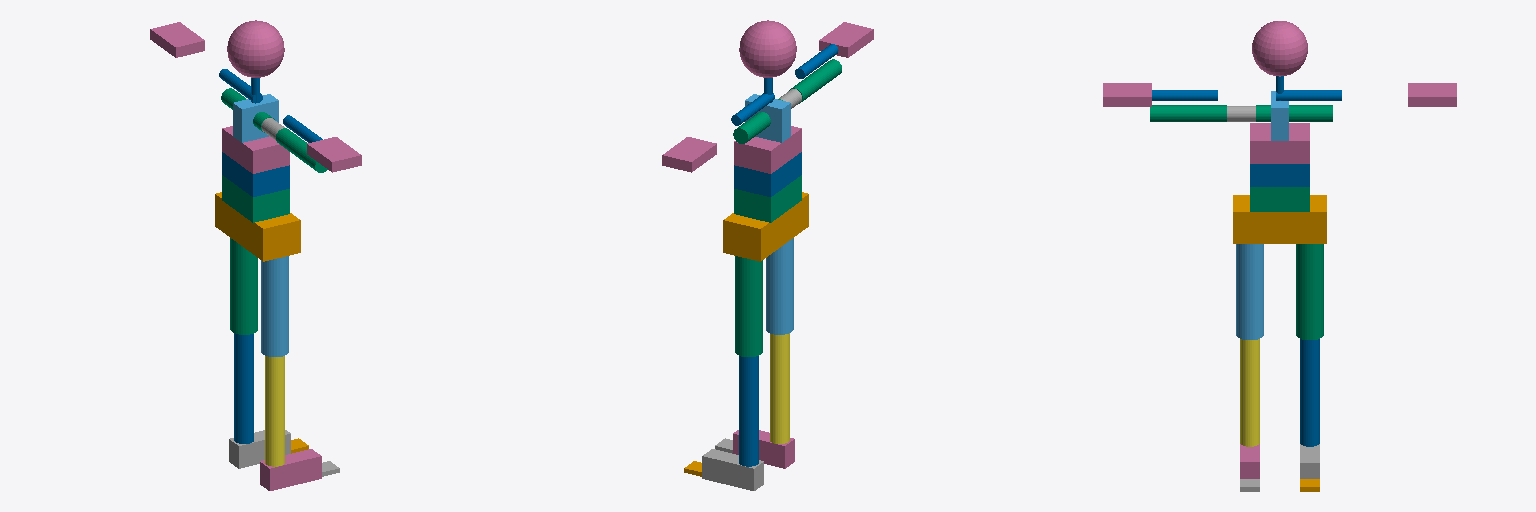
--- What the picture shows (computed from the rendered views, not written in the file) ---
Views: 3 orthographic renders of the robot side by side, from view 1: azimuth 30°, elevation 25°; view 2: azimuth 150°, elevation 25°; view 3: azimuth 270°, elevation 25°.
Model XSensStyleModel_template with 49 links and 48 joints (48 revolute), rooted at Pelvis, posed every joint at zero.
Links seen in each view (by area): view 1: Pelvis, RightUpperLeg, Head, LeftUpperLeg, RightLowerLeg, LeftLowerLeg, T12, RightFoot, L5, L3, T8, LeftHand (+3 smaller); view 2: Pelvis, LeftUpperLeg, Head, RightUpperLeg, LeftLowerLeg, RightLowerLeg, T12, LeftFoot, L5, L3, LeftHand, RightHand (+6 smaller); view 3: Pelvis, RightUpperLeg, LeftUpperLeg, Head, T12, RightLowerLeg, LeftLowerLeg, L5, L3, RightUpperArm, RightHand, LeftHand (+6 smaller).
Link boxes in pixels (<box>): Pelvis: <box>215,192,300,261</box>; RightUpperLeg: <box>261,256,288,356</box>; Head: <box>227,20,284,77</box>; LeftUpperLeg: <box>230,238,257,334</box>; RightLowerLeg: <box>265,356,284,466</box>; LeftLowerLeg: <box>234,333,253,443</box>; T12: <box>222,126,289,173</box>; RightFoot: <box>260,449,321,490</box>; L5: <box>222,175,289,222</box>; L3: <box>222,152,289,196</box>; T8: <box>233,94,278,142</box>; LeftHand: <box>150,22,204,57</box>; Pelvis: <box>723,192,808,261</box>; LeftUpperLeg: <box>735,256,762,356</box>; Head: <box>739,20,796,77</box>; RightUpperLeg: <box>766,238,793,334</box>; LeftLowerLeg: <box>739,356,758,466</box>; RightLowerLeg: <box>770,333,789,443</box>; T12: <box>734,126,801,173</box>; LeftFoot: <box>702,449,763,490</box>; L5: <box>734,175,801,222</box>; L3: <box>734,152,801,196</box>; LeftHand: <box>662,137,716,172</box>; RightHand: <box>819,22,873,57</box>; Pelvis: <box>1233,195,1326,243</box>; RightUpperLeg: <box>1236,244,1263,339</box>; LeftUpperLeg: <box>1296,244,1323,339</box>; Head: <box>1252,21,1307,76</box>; T12: <box>1250,123,1309,163</box>; RightLowerLeg: <box>1240,339,1259,446</box>; LeftLowerLeg: <box>1300,339,1319,446</box>; L5: <box>1250,187,1309,211</box>; L3: <box>1250,164,1309,186</box>; RightUpperArm: <box>1150,105,1226,121</box>; RightHand: <box>1103,83,1151,106</box>; LeftHand: <box>1408,83,1456,106</box>.
Size in the robot's own frame: 0.3655 by 1.3 by 1.78 metres.
Geometry: primitives only (box / cylinder / sphere), no mesh files.

URDF robot description (XSensStyleModel_template):
<!--URDF MODEL 48 DoFs-->

<robot name="XSensStyleModel_template">
<!--To open this model with Gazebo replace the null masses, inertias and dimensions of the 'fake links f1 and f2'-->
    <!--LINKS-->
	<!--Link base (1)-->
	<link name="Pelvis">
        <inertial>
            <mass value="5.6"/>
			<!--COM origin wrt pHipOrigin-->
            <origin xyz="-0.0082035  0.         0.066194 " rpy="0 0 0" />
            <inertia ixx="0.063906" iyy="0.0188016" izz="0.06707663" ixy="0" ixz="0" iyz="0"/>
        </inertial>

        <visual>
			<!--box origin wrt pHipOrigin-->
            <origin xyz="-0.0082035  0.         0.066194 " rpy="0 0 0" />
            <geometry>
                <box size="0.153433 0.34669  0.129412"/>
            </geometry>
        </visual>

        <collision>
			<!--box origin wrt pHipOrigin-->
            <origin xyz="-0.0082035  0.         0.066194 " rpy="0 0 0" />
            <geometry>
                <box size="0.153433 0.34669  0.129412"/>
            </geometry>
        </collision>

    </link>
    <!--Chain from (2) to (7)-->
	<link name="L5_f1">
        <inertial>
            <mass value="0"/>
            <origin xyz="0 0 0" rpy="0 0 0" />
            <inertia ixx="0" iyy="0" izz="0" ixy="0" ixz="0" iyz="0"/>
        </inertial>
    </link>
	<link name="L5">
        <inertial>
            <mass value="7.14"/>
			<!--COM origin wrt jL5S1-->
            <origin xyz="0.      0.      0.05043" rpy="0 0 0" />
            <inertia ixx="0.03487749" iyy="0.02006008" izz="0.04283201" ixy="0" ixz="0" iyz="0"/>
        </inertial>

        <visual>
			<!--box origin origin wrt jL5S1-->
            <origin xyz="0.      0.      0.05043" rpy="0 0 0" />
            <geometry>
                <box size="0.153433 0.220102 0.10086 "/>
            </geometry>
        </visual>

        <collision>
			<!--box origin origin wrt jL5S1-->
            <origin xyz="0.      0.      0.05043" rpy="0 0 0" />
            <geometry>
                <box size="0.153433 0.220102 0.10086 "/>
            </geometry>
        </collision>
    </link>
	<link name="L3_f1">
        <inertial>
            <mass value="0"/>
            <origin xyz="0 0 0" rpy="0 0 0" />
            <inertia ixx="0" iyy="0" izz="0" ixy="0" ixz="0" iyz="0"/>
        </inertial>
    </link>
	<link name="L3">
        <inertial>
            <mass value="7.14"/>
			<!--COM origin wrt jL4L3-->
            <origin xyz="0.       0.       0.046087" rpy="0 0 0" />
            <inertia ixx="0.03387986" iyy="0.01906245" izz="0.04283201" ixy="0" ixz="0" iyz="0"/>
        </inertial>

        <visual>
			<!--box origin origin wrt jL4L3-->
            <origin xyz="0.       0.       0.046087" rpy="0 0 0" />
            <geometry>
                <box size="0.153433 0.220102 0.092174"/>
            </geometry>
        </visual>

        <collision>
			<!--box origin origin wrt jL4L3-->
            <origin xyz="0.       0.       0.046087" rpy="0 0 0" />
            <geometry>
                <box size="0.153433 0.220102 0.092174"/>
            </geometry>
        </collision>
    </link>
	<link name="T12_f1">
        <inertial>
            <mass value="0"/>
            <origin xyz="0 0 0" rpy="0 0 0" />
            <inertia ixx="0" iyy="0" izz="0" ixy="0" ixz="0" iyz="0"/>
        </inertial>
    </link>
	<link name="T12">
        <inertial>
            <mass value="7.14"/>
			<!--COM origin wrt jL1T12-->
            <origin xyz="0.        0.        0.0460355" rpy="0 0 0" />
            <inertia ixx="0.03386857" iyy="0.01905116" izz="0.04283201" ixy="0" ixz="0" iyz="0"/>
        </inertial>

        <visual>
			<!--box origin origin wrt jL1T12-->
            <origin xyz="0.        0.        0.0460355" rpy="0 0 0" />
            <geometry>
                <box size="0.153433 0.220102 0.092071"/>
            </geometry>
        </visual>

        <collision>
			<!--box origin origin wrt jL1T12-->
            <origin xyz="0.        0.        0.0460355" rpy="0 0 0" />
            <geometry>
                <box size="0.153433 0.220102 0.092071"/>
            </geometry>
        </collision>
    </link>
	<link name="T8_f1">
        <inertial>
            <mass value="0"/>
            <origin xyz="0 0 0" rpy="0 0 0" />
            <inertia ixx="0" iyy="0" izz="0" ixy="0" ixz="0" iyz="0"/>
        </inertial>
    </link>
	<link name="T8_f2">
        <inertial>
            <mass value="0"/>
            <origin xyz="0 0 0" rpy="0 0 0" />
            <inertia ixx="0" iyy="0" izz="0" ixy="0" ixz="0" iyz="0"/>
        </inertial>
    </link>
	<link name="T8">
        <inertial>
            <mass value="2.8"/>
			<!--COM origin wrt jT9T8-->
            <origin xyz="0.       0.       0.066365" rpy="0 0 0" />
            <inertia ixx="0.00512592" iyy="0.00956879" izz="0.00647333" ixy="0" ixz="0" iyz="0"/>
        </inertial>

        <visual>
			<!--box origin wrt jT9T8-->
            <origin xyz="0.       0.       0.066365" rpy="0 0 0" />
            <geometry>
                <box size="0.152944 0.065962 0.13273 "/>
            </geometry>
        </visual>

        <collision>
			<!--box origin wrt jT9T8-->
            <origin xyz="0.       0.       0.066365" rpy="0 0 0" />
            <geometry>
                <box size="0.152944 0.065962 0.13273 "/>
            </geometry>
        </collision>

    </link>
	<link name="Neck_f1">
        <inertial>
            <mass value="0"/>
            <origin xyz="0 0 0" rpy="0 0 0" />
            <inertia ixx="0" iyy="0" izz="0" ixy="0" ixz="0" iyz="0"/>
        </inertial>
    </link>
	<link name="Neck_f2">
        <inertial>
            <mass value="0"/>
            <origin xyz="0 0 0" rpy="0 0 0" />
            <inertia ixx="0" iyy="0" izz="0" ixy="0" ixz="0" iyz="0"/>
        </inertial>
    </link>
	<link name="Neck">
        <inertial>
            <mass value="0.84"/>
			<!--COM origin wrt jT1C7-->
            <origin xyz="0.       0.       0.051767" rpy="0 0 0" />
            <inertia ixx="0.00096909" iyy="0.00096909" izz="0.00043748" ixy="0" ixz="0" iyz="0"/>
        </inertial>

        <visual>
			<!--box origin wrt jT1C7-->
            <origin xyz="0.       0.       0.051767" rpy="0 0 0" />
            <geometry>
		<cylinder length="0.103534" radius="0.016137"/>
            </geometry>
        </visual>

        <collision>
			<!--box origin wrt jT1C7-->
            <origin xyz="0.       0.       0.051767" rpy="0 0 0" />
            <geometry>
                <cylinder length="0.103534" radius="0.016137"/>
            </geometry>
        </collision>
    </link>
	<link name="Head_f1">
        <inertial>
            <mass value="0"/>
            <origin xyz="0 0 0" rpy="0 0 0" />
            <inertia ixx="0" iyy="0" izz="0" ixy="0" ixz="0" iyz="0"/>
        </inertial>
    </link>
	<link name="Head">
        <inertial>
            <mass value="2.52"/>
			<!--COM origin wrt jC1Head-->
            <origin xyz="0.        0.        0.1031505" rpy="0 0 0" />
            <inertia ixx="0.01072515" iyy="0.01072515" izz="0.01072515" ixy="0" ixz="0" iyz="0"/>
        </inertial>

        <visual>
			<!--boc origin wrt jC1Head-->
            <origin xyz="0.        0.        0.1031505" rpy="0 0 0" />
            <geometry>
                <sphere radius="0.1031505"/>
            </geometry>
        </visual>

        <collision>
			<!--box origin wrt jC1Head-->
            <origin xyz="0.        0.        0.1031505" rpy="0 0 0" />
            <geometry>
                <sphere radius="0.1031505"/>
            </geometry>
        </collision>

    </link>
	<!--Chain from (8) to (11)-->
	<link name="RightShoulder">
        <inertial>
            <mass value="2.17"/>
			<!--COM origin wrt jRightC7Shoulder-->
            <origin xyz=" 0.       -0.080986  0.      " rpy="0 0 0" />
            <inertia ixx="0.00519166" iyy="0.00089501" izz="0.00519166" ixy="0" ixz="0" iyz="0"/>
        </inertial>

        <visual>
			<!--box origin wrt jRightC7Shoulder. RPY rotated of pi/2.-->
            <origin xyz=" 0.       -0.080986  0.      " rpy="1.5708 0 0" />
            <geometry>
                <cylinder length="0.161972" radius="0.028721"/>
            </geometry>
        </visual>

        <collision>
			<!--box origin wrt jRightC7Shoulder. RPY rotated of pi/2.-->
            <origin xyz=" 0.       -0.080986  0.      " rpy="1.5708 0 0" />
            <geometry>
                <cylinder length="0.161972" radius="0.028721"/>
            </geometry>
        </collision>

    </link>
	<link name="RightUpperArm_f1">
        <inertial>
            <mass value="0"/>
            <origin xyz="0 0 0" rpy="0 0 0" />
            <inertia ixx="0" iyy="0" izz="0" ixy="0" ixz="0" iyz="0"/>
        </inertial>
    </link>
	<link name="RightUpperArm_f2">
        <inertial>
            <mass value="0"/>
            <origin xyz="0 0 0" rpy="0 0 0" />
            <inertia ixx="0" iyy="0" izz="0" ixy="0" ixz="0" iyz="0"/>
        </inertial>
    </link>
    <link name="RightUpperArm">
        <inertial>
            <mass value="2.1"/>
			<!--COM origin wrt jRightShoulder-->
            <origin xyz=" 0.       -0.141672  0.      " rpy="0 0 0" />
            <inertia ixx="0.01455613" iyy="0.00101293" izz="0.01455613" ixy="0" ixz="0" iyz="0"/>
        </inertial>

        <visual>
			<!--box origin wrt jRightShoulder. RPY rotated of pi/2.-->
            <origin xyz=" 0.       -0.141672  0.      " rpy="1.5708 0 0" />
            <geometry>
                <cylinder length="0.283344" radius="0.0310595"/>
            </geometry>
        </visual>

        <collision>
			<!--box origin wrt jRightShoulder. RPY rotated of pi/2.-->
            <origin xyz=" 0.       -0.141672  0.      " rpy="1.5708 0 0" />
            <geometry>
                <cylinder length="0.283344" radius="0.0310595"/>
            </geometry>
        </collision>

    </link>
	<link name="RightForeArm_f1">
        <inertial>
            <mass value="0"/>
            <origin xyz="0 0 0" rpy="0 0 0" />
            <inertia ixx="0" iyy="0" izz="0" ixy="0" ixz="0" iyz="0"/>
        </inertial>
    </link>
	<link name="RightForeArm">
        <inertial>
            <mass value="1.4"/>
			<!--COM origin wrt jRightElbow-->
            <origin xyz=" 0.       -0.120704  0.      " rpy="0 0 0" />
            <inertia ixx="0.00694914" iyy="0.00030013" izz="0.00694914" ixy="0" ixz="0" iyz="0"/>
        </inertial>

        <visual>
			<!--box origin wrt jRightElbow. RPY rotated of pi/2.-->
            <origin xyz=" 0.       -0.120704  0.      " rpy="1.5708 0 0" />
            <geometry>
                <cylinder length="0.241408" radius="0.02070633"/>
            </geometry>
        </visual>

        <collision>
			<!--box origin wrt jRightElbow. RPY rotated of pi/2.-->
            <origin xyz=" 0.       -0.120704  0.      " rpy="1.5708 0 0" />
            <geometry>
                <cylinder length="0.241408" radius="0.02070633"/>
            </geometry>
        </collision>

    </link>
	<link name="RightHand_f1">
        <inertial>
            <mass value="0"/>
            <origin xyz="0 0 0" rpy="0 0 0" />
            <inertia ixx="0" iyy="0" izz="0" ixy="0" ixz="0" iyz="0"/>
        </inertial>
    </link>
	<link name="RightHand">
        <inertial>
            <mass value="0.42"/>
			<!--COM origin wrt jRightWrist-->
            <origin xyz=" 0.        -0.0910235  0.       " rpy="0 0 0" />
            <inertia ixx="0.00121996" iyy="0.00057555" izz="0.00167547" ixy="0" ixz="0" iyz="0"/>
        </inertial>

        <visual>
			<!--box origin wrt jRightWrist-->
            <origin xyz=" 0.        -0.0910235  0.       " rpy="0 0 0" />
            <geometry>
                <box size="0.12136467 0.182047   0.04141267"/>
            </geometry>
        </visual>

        <collision>
			<!--box origin wrt jRightWrist-->
            <origin xyz=" 0.        -0.0910235  0.       " rpy="0 0 0" />
            <geometry>
                <box size="0.12136467 0.182047   0.04141267"/>
            </geometry>
        </collision>

    </link>
	<!--Chain from (12) to (15)-->
	<link name="LeftShoulder">
        <inertial>
            <mass value="2.17"/>
			<!--COM origin wrt jLeftC7Shoulder-->
            <origin xyz=" 0.       -0.080986  0.      " rpy="0 0 0" />
            <inertia ixx="0.00519166" iyy="0.00089501" izz="0.00519166" ixy="0" ixz="0" iyz="0"/>
        </inertial>

        <visual>
			<!--box origin wrt jLeftC7Shoulder. RPY rotated of pi/2.-->
            <origin xyz=" 0.       -0.080986  0.      " rpy="1.5708 0 0" />
            <geometry>
                <cylinder length="0.161972" radius="0.028721"/>
            </geometry>
        </visual>

        <collision>
			<!--box origin wrt jLeftC7Shoulder. RPY rotated of pi/2.-->
            <origin xyz=" 0.       -0.080986  0.      " rpy="1.5708 0 0" />
            <geometry>
                <cylinder length="0.161972" radius="0.028721"/>
            </geometry>
        </collision>

    </link>
	<link name="LeftUpperArm_f1">
        <inertial>
            <mass value="0"/>
            <origin xyz="0 0 0" rpy="0 0 0" />
            <inertia ixx="0" iyy="0" izz="0" ixy="0" ixz="0" iyz="0"/>
        </inertial>
    </link>
	<link name="LeftUpperArm_f2">
        <inertial>
            <mass value="0"/>
            <origin xyz="0 0 0" rpy="0 0 0" />
            <inertia ixx="0" iyy="0" izz="0" ixy="0" ixz="0" iyz="0"/>
        </inertial>
    </link>
	<link name="LeftUpperArm">
        <inertial>
            <mass value="2.1"/>
			<!--COM origin wrt jLeftShoulder-->
            <origin xyz=" 0.       -0.141672  0.      " rpy="0 0 0" />
            <inertia ixx="0.01455613" iyy="0.00101293" izz="0.01455613" ixy="0" ixz="0" iyz="0"/>
        </inertial>

        <visual>
			<!--box origin wrt jLeftShoulder. RPY rotated of pi/2.-->
            <origin xyz=" 0.       -0.141672  0.      " rpy="1.5708 0 0" />
            <geometry>
                <cylinder length="0.283344" radius="0.0310595"/>
            </geometry>
        </visual>

        <collision>
			<!--box origin wrt jLeftShoulder. RPY rotated of pi/2.-->
            <origin xyz=" 0.       -0.141672  0.      " rpy="1.5708 0 0" />
            <geometry>
                <cylinder length="0.283344" radius="0.0310595"/>
            </geometry>
        </collision>

    </link>
	<link name="LeftForeArm_f1">
        <inertial>
            <mass value="0"/>
            <origin xyz="0 0 0" rpy="0 0 0" />
            <inertia ixx="0" iyy="0" izz="0" ixy="0" ixz="0" iyz="0"/>
        </inertial>
    </link>
	<link name="LeftForeArm">
        <inertial>
            <mass value="1.4"/>
			<!--COM origin wrt jLeftElbow-->
            <origin xyz=" 0.       -0.120704  0.      " rpy="0 0 0" />
            <inertia ixx="0.00694914" iyy="0.00030013" izz="0.00694914" ixy="0" ixz="0" iyz="0"/>
        </inertial>

        <visual>
			<!--box origin wrt jLeftElbow. RPY rotated of pi/2.-->
            <origin xyz=" 0.       -0.120704  0.      " rpy="1.5708 0 0" />
            <geometry>
                <cylinder length="0.241408" radius="0.02070633"/>
            </geometry>
        </visual>

        <collision>
			<!--box origin wrt jLeftElbow. RPY rotated of pi/2.-->
            <origin xyz=" 0.       -0.120704  0.      " rpy="1.5708 0 0" />
            <geometry>
                <cylinder length="0.241408" radius="0.02070633"/>
            </geometry>
        </collision>

    </link>
	<link name="LeftHand_f1">
        <inertial>
            <mass value="0"/>
            <origin xyz="0 0 0" rpy="0 0 0" />
            <inertia ixx="0" iyy="0" izz="0" ixy="0" ixz="0" iyz="0"/>
        </inertial>
    </link>
	<link name="LeftHand">
        <inertial>
            <mass value="0.42"/>
			<!--COM origin wrt jLeftWrist-->
            <origin xyz="0.        0.0910235 0.       " rpy="0 0 0" />
            <inertia ixx="0.00121996" iyy="0.00057555" izz="0.00167547" ixy="0" ixz="0" iyz="0"/>
        </inertial>

        <visual>
			<!--COM origin wrt jLeftWrist-->
            <origin xyz="0.        0.0910235 0.       " rpy="0 0 0" />
            <geometry>
                <box size="0.12136467 0.182047   0.04141267"/>
            </geometry>
        </visual>

        <collision>
			<!--COM origin wrt jLeftWrist-->
            <origin xyz="0.        0.0910235 0.       " rpy="0 0 0" />
            <geometry>
                <box size="0.12136467 0.182047   0.04141267"/>
            </geometry>
        </collision>

    </link>
	<!--Chain from (16) to (19)-->
	<link name="RightUpperLeg_f1">
        <inertial>
            <mass value="0"/>
            <origin xyz="0 0 0" rpy="0 0 0" />
            <inertia ixx="0" iyy="0" izz="0" ixy="0" ixz="0" iyz="0"/>
        </inertial>
    </link>
	<link name="RightUpperLeg_f2">
        <inertial>
            <mass value="0"/>
            <origin xyz="0 0 0" rpy="0 0 0" />
            <inertia ixx="0" iyy="0" izz="0" ixy="0" ixz="0" iyz="0"/>
        </inertial>
    </link>
    <link name="RightUpperLeg">
        <inertial>
            <mass value="8.75"/>
			<!--COM origin wrt jRightHip-->
            <origin xyz=" 0.         0.        -0.1995135" rpy="0 0 0" />
            <inertia ixx="0.12170665" iyy="0.12170665" izz="0.01121375" ixy="0" ixz="0" iyz="0"/>
        </inertial>

        <visual>
			<!--box origin wrt jRightHip-->
            <origin xyz=" 0.         0.        -0.1995135" rpy="0 0 0" />
            <geometry>
                <cylinder length="0.399027" radius="0.0506275"/>
            </geometry>
        </visual>

        <collision>
			<!--box origin wrt jRightHip-->
            <origin xyz=" 0.         0.        -0.1995135" rpy="0 0 0" />
            <geometry>
                <cylinder length="0.399027" radius="0.0506275"/>
            </geometry>
        </collision>

    </link>
	<link name="RightLowerLeg_f1">
        <inertial>
            <mass value="0"/>
            <origin xyz="0 0 0" rpy="0 0 0" />
            <inertia ixx="0" iyy="0" izz="0" ixy="0" ixz="0" iyz="0"/>
        </inertial>
    </link>
    <link name="RightLowerLeg">
        <inertial>
            <mass value="2.555"/>
			<!--COM origin wrt jRightKnee-->
            <origin xyz=" 0.        0.       -0.219226" rpy="0 0 0" />
            <inertia ixx="0.04176644" iyy="0.04176644" izz="0.00167062" ixy="0" ixz="0" iyz="0"/>
        </inertial>

        <visual>
			<!--box origin wrt jRightKnee-->
            <origin xyz=" 0.        0.       -0.219226" rpy="0 0 0" />
            <geometry>
                <cylinder length="0.438452" radius="0.0361625"/>
            </geometry>
        </visual>

        <collision>
			<!--box origin wrt jRightKnee-->
            <origin xyz=" 0.        0.       -0.219226" rpy="0 0 0" />
            <geometry>
                <cylinder length="0.438452" radius="0.0361625"/>
            </geometry>
        </collision>

    </link>
	<link name="RightFoot_f1">
        <inertial>
            <mass value="0"/>
            <origin xyz="0 0 0" rpy="0 0 0" />
            <inertia ixx="0" iyy="0" izz="0" ixy="0" ixz="0" iyz="0"/>
        </inertial>
    </link>
	<link name="RightFoot_f2">
        <inertial>
            <mass value="0"/>
            <origin xyz="0 0 0" rpy="0 0 0" />
            <inertia ixx="0" iyy="0" izz="0" ixy="0" ixz="0" iyz="0"/>
        </inertial>
    </link>
    <link name="RightFoot">
        <inertial>
            <mass value="0.91"/>
			<!--COM origin wrt jRightAnkle-->
            <origin xyz=" 0.0644255  0.        -0.045045 " rpy="0 0 0" />
            <inertia ixx="0.00101216" iyy="0.00411928" izz="0.00390048" ixy="0" ixz="0" iyz="0"/>
        </inertial>

        <visual>
			<!--box origin wrt jRightAnkle-->
	    	<origin xyz=" 0.0644255  0.        -0.045045 " rpy="0 0 0" />
            <geometry>
                <box size="0.214951 0.072325 0.09009 "/>
            </geometry>
        </visual>

        <collision>
			<!--box origin wrt jRightAnkle-->
		    <origin xyz=" 0.0644255  0.        -0.045045 " rpy="0 0 0" />
	            <geometry>
	                <box size="0.214951 0.072325 0.09009 "/>
	            </geometry>
        </collision>

    </link>
    <link name="RightToe">
        <inertial>
            <mass value="0.105"/>
			<!--COM origin wrt jRightBallFoot-->
            <origin xyz="0.0375235 0.        0.       " rpy="0 0 0" />
            <inertia ixx="4.82985793e-05" iyy="5.18086119e-05" izz="9.5050881e-05" ixy="0" ixz="0" iyz="0"/>
        </inertial>

        <visual>
			<!--box origin wrt jRightBallFoot-->
            <origin xyz="0.0375235 0.        0.       " rpy="0 0 0" />
            <geometry>
                <box size="0.075047 0.072325 0.016998"/>
            </geometry>
        </visual>

        <collision>
			<!--box origin wrt jRightBallFoot-->
            <origin xyz="0.0375235 0.        0.       " rpy="0 0 0" />
            <geometry>
                <box size="0.075047 0.072325 0.016998"/>
            </geometry>
        </collision>
    </link>
	<!--Chain from (20) to (23)-->
	<link name="LeftUpperLeg_f1">
        <inertial>
            <mass value="0"/>
            <origin xyz="0 0 0" rpy="0 0 0" />
            <inertia ixx="0" iyy="0" izz="0" ixy="0" ixz="0" iyz="0"/>
        </inertial>
    </link>
	<link name="LeftUpperLeg_f2">
        <inertial>
            <mass value="0"/>
            <origin xyz="0 0 0" rpy="0 0 0" />
            <inertia ixx="0" iyy="0" izz="0" ixy="0" ixz="0" iyz="0"/>
        </inertial>
    </link>
    <link name="LeftUpperLeg">
        <inertial>
            <mass value="8.75"/>
			<!--COM origin wrt jLeftHip-->
            <origin xyz=" 0.         0.        -0.1995135" rpy="0 0 0" />
            <inertia ixx="0.12170665" iyy="0.12170665" izz="0.01121375" ixy="0" ixz="0" iyz="0"/>
        </inertial>

        <visual>
			<!--box origin wrt jLeftHip-->
            <origin xyz=" 0.         0.        -0.1995135" rpy="0 0 0" />
            <geometry>
                <cylinder length="0.399027" radius="-0.0506275"/>
            </geometry>
        </visual>

        <collision>
			<!--box origin wrt jLeftHip-->
            <origin xyz=" 0.         0.        -0.1995135" rpy="0 0 0" />
            <geometry>
                <cylinder length="0.399027" radius="-0.0506275"/>
            </geometry>
        </collision>

    </link>
	<link name="LeftLowerLeg_f1">
        <inertial>
            <mass value="0"/>
            <origin xyz="0 0 0" rpy="0 0 0" />
            <inertia ixx="0" iyy="0" izz="0" ixy="0" ixz="0" iyz="0"/>
        </inertial>
    </link>
	<link name="LeftLowerLeg">
        <inertial>
            <mass value="2.555"/>
			<!--COM origin wrt jLeftKnee-->
            <origin xyz=" 0.        0.       -0.219226" rpy="0 0 0" />
            <inertia ixx="0.04176644" iyy="0.04176644" izz="0.00167062" ixy="0" ixz="0" iyz="0"/>
        </inertial>

        <visual>
			<!--box origin wrt jLeftKnee-->
            <origin xyz=" 0.        0.       -0.219226" rpy="0 0 0" />
            <geometry>
		<cylinder length="0.438452" radius="-0.0361625"/>
            </geometry>
        </visual>

        <collision>
			<!--box origin wrt jLeftKnee-->
            <origin xyz=" 0.        0.       -0.219226" rpy="0 0 0" />
            <geometry>
		<cylinder length="0.438452" radius="-0.0361625"/>
            </geometry>
        </collision>

    </link>
	<link name="LeftFoot_f1">
        <inertial>
            <mass value="0"/>
            <origin xyz="0 0 0" rpy="0 0 0" />
            <inertia ixx="0" iyy="0" izz="0" ixy="0" ixz="0" iyz="0"/>
        </inertial>
    </link>
	<link name="LeftFoot_f2">
        <inertial>
            <mass value="0"/>
            <origin xyz="0 0 0" rpy="0 0 0" />
            <inertia ixx="0" iyy="0" izz="0" ixy="0" ixz="0" iyz="0"/>
        </inertial>
    </link>
    <link name="LeftFoot">
        <inertial>
            <mass value="0.91"/>
			<!--COM origin wrt jLeftAnkle-->
            <origin xyz=" 0.0644255  0.        -0.045045 " rpy="0 0 0" />
            <inertia ixx="0.00101216" iyy="0.00411928" izz="0.00390048" ixy="0" ixz="0" iyz="0"/>
        </inertial>

        <visual>
			<!--box origin wrt jLeftAnkle-->
	   	 	<origin xyz=" 0.0644255  0.        -0.045045 " rpy="0 0 0" />
            <geometry>
                <box size=" 0.214951 -0.072325  0.09009 "/>
            </geometry>
        </visual>

        <collision>
			<!--box origin wrt jLeftAnkle-->
		    <origin xyz=" 0.0644255  0.        -0.045045 " rpy="0 0 0" />
	            <geometry>
	                <box size=" 0.214951 -0.072325  0.09009 "/>
	            </geometry>
        </collision>

    </link>
	<link name="LeftToe">
        <inertial>
            <mass value="0.105"/>
			<!--COM origin wrt jLeftBallFoot-->
            <origin xyz="0.0375235 0.        0.       " rpy="0 0 0" />
            <inertia ixx="4.82985793e-05" iyy="5.18086119e-05" izz="9.5050881e-05" ixy="0" ixz="0" iyz="0"/>
        </inertial>

        <visual>
			<!--box origin wrt jLeftBallFoot-->
            <origin xyz="0.0375235 0.        0.       " rpy="0 0 0" />
            <geometry>
                <box size=" 0.075047 -0.072325  0.016998"/>
            </geometry>
        </visual>

        <collision>
			<!--box origin wrt jLeftBallFoot-->
            <origin xyz="0.0375235 0.        0.       " rpy="0 0 0" />
            <geometry>
                <box size=" 0.075047 -0.072325  0.016998"/>
            </geometry>
        </collision>
    </link>


	<!--JOINTS-->
	<!--Chain from (2) to (7)-->
	<joint name="jL5S1_rotx" type="revolute">
        <origin xyz="-0.014544  0.        0.1309  " rpy="0 0 0"/>
        <parent link="Pelvis"/>
        <child link="L5_f1"/>
        <dynamics damping="0.1" friction="0.0"/>
        <limit effort="30" velocity="1.0" lower="-0.610865" upper="0.610865" />
        <axis xyz="1 0 0" />
    </joint>
	<joint name="jL5S1_roty" type="revolute">
        <origin xyz="0 0 0" rpy="0 0 0"/>
        <parent link="L5_f1"/>
        <child link="L5"/>
        <dynamics damping="0.1" friction="0.0"/>
        <limit effort="30" velocity="1.0" lower="-0.523599" upper="1.309" />
        <axis xyz="0 1 0" />
    </joint>
	<joint name="jL4L3_rotx" type="revolute">
        <origin xyz="0.      0.      0.10086" rpy="0 0 0"/>
        <parent link="L5"/>
        <child link="L3_f1"/>
        <dynamics damping="0.1" friction="0.0"/>
        <limit effort="30" velocity="1.0" lower="-0.610865" upper="0.610865" />
        <axis xyz="1 0 0" />
    </joint>
	<joint name="jL4L3_roty" type="revolute">
        <origin xyz="0 0 0" rpy="0 0 0"/>
        <parent link="L3_f1"/>
        <child link="L3"/>
        <dynamics damping="0.1" friction="0.0"/>
        <limit effort="30" velocity="1.0" lower="-0.523599" upper="1.309" />
        <axis xyz="0 1 0" />
    </joint>
	<joint name="jL1T12_rotx" type="revolute">
        <origin xyz="-0.000603  0.        0.092174" rpy="0 0 0"/>
        <parent link="L3"/>
        <child link="T12_f1"/>
        <dynamics damping="0.1" friction="0.0"/>
        <limit effort="30" velocity="1.0" lower="-0.610865" upper="0.610865" />
        <axis xyz="1 0 0" />
    </joint>
	<joint name="jL1T12_roty" type="revolute">
        <origin xyz="0 0 0" rpy="0 0 0"/>
        <parent link="T12_f1"/>
        <child link="T12"/>
        <dynamics damping="0.1" friction="0.0"/>
        <limit effort="30" velocity="1.0" lower="-0.523599" upper="1.309" />
        <axis xyz="0 1 0" />
    </joint>
	<joint name="jT9T8_rotx" type="revolute">
        <origin xyz="-0.000604  0.        0.092071" rpy="0 0 0"/>
        <parent link="T12"/>
        <child link="T8_f1"/>
        <dynamics damping="0.1" friction="0.0"/>
        <limit effort="30" velocity="1.0" lower="-0.349066" upper="0.349066" />
        <axis xyz="1 0 0" />
    </joint>
	<joint name="jT9T8_roty" type="revolute">
        <origin xyz="0 0 0" rpy="0 0 0"/>
        <parent link="T8_f1"/>
        <child link="T8_f2"/>
        <dynamics damping="0.1" friction="0.0"/>
        <limit effort="30" velocity="1.0" lower="-0.261799" upper="0.698132" />
        <axis xyz="0 1 0" />
    </joint>
    <joint name="jT9T8_rotz" type="revolute">
        <origin xyz="0 0 0" rpy="0 0 0"/>
        <parent link="T8_f2"/>
        <child link="T8"/>
        <dynamics damping="0.1" friction="0.0"/>
        <limit effort="30" velocity="1.0" lower="-0.610865" upper="0.610865" />
        <axis xyz="0 0 1" />
    </joint>
	<joint name="jT1C7_rotx" type="revolute">
        <origin xyz="0.      0.      0.13273" rpy="0 0 0"/>
        <parent link="T8"/>
        <child link="Neck_f1"/>
        <dynamics damping="0.1" friction="0.0"/>
        <limit effort="30" velocity="1.0" lower="-0.610865" upper="0.610865" />
        <axis xyz="1 0 0" />
    </joint>
	<joint name="jT1C7_roty" type="revolute">
        <origin xyz="0 0 0" rpy="0 0 0"/>
        <parent link="Neck_f1"/>
        <child link="Neck_f2"/>
        <dynamics damping="0.1" friction="0.0"/>
        <limit effort="30" velocity="1.0" lower="-0.959931" upper="1.5708" />
        <axis xyz="0 1 0" />
    </joint>
    <joint name="jT1C7_rotz" type="revolute">
        <origin xyz="0 0 0" rpy="0 0 0"/>
        <parent link="Neck_f2"/>
        <child link="Neck"/>
        <dynamics damping="0.1" friction="0.0"/>
        <limit effort="30" velocity="1.0" lower="-1.22173" upper="1.22173" />
        <axis xyz="0 0 1" />
    </joint>
	<joint name="jC1Head_rotx" type="revolute">
        <origin xyz="-0.000115  0.        0.103534" rpy="0 0 0"/>
        <parent link="Neck"/>
        <child link="Head_f1"/>
        <dynamics damping="0.1" friction="0.0"/>
        <limit effort="30" velocity="1.0" lower="-0.610865" upper="0.610865" />
        <axis xyz="1 0 0" />
    </joint>
	<joint name="jC1Head_roty" type="revolute">
        <origin xyz="0 0 0" rpy="0 0 0"/>
        <parent link="Head_f1"/>
        <child link="Head"/>
        <dynamics damping="0.1" friction="0.0"/>
        <limit effort="30" velocity="1.0" lower="-0.436332" upper="0.174533" />
        <axis xyz="0 1 0" />
    </joint>
	<!--Chain from (8) to (11)-->
	<joint name="jRightC7Shoulder_rotx" type="revolute">
        <origin xyz=" 0.       -0.032981  0.074762" rpy="0 0 0"/>
        <parent link="T8"/>
        <child link="RightShoulder"/>
        <dynamics damping="0.1" friction="0.0"/>
        <limit effort="30" velocity="1.0" lower="-0.785398" upper="0.0872665" />
        <axis xyz="1 0 0" />
    </joint>
	<joint name="jRightShoulder_rotx" type="revolute">
        <origin xyz=" 0.       -0.161972  0.      " rpy="0 0 0"/>
        <parent link="RightShoulder"/>
        <child link="RightUpperArm_f1"/>
        <dynamics damping="0.1" friction="0.0"/>
        <limit effort="30" velocity="1.0" lower="-2.35619" upper="1.5708" />
        <axis xyz="1 0 0" />
    </joint>
	<joint name="jRightShoulder_roty" type="revolute">
        <origin xyz="0 0 0" rpy="0 0 0"/>
        <parent link="RightUpperArm_f1"/>
        <child link="RightUpperArm_f2"/>
        <dynamics damping="0.1" friction="0.0"/>
        <limit effort="30" velocity="1.0" lower="-1.5708" upper="1.5708" />
        <axis xyz="0 1 0" />
    </joint>
    <joint name="jRightShoulder_rotz" type="revolute">
        <origin xyz="0 0 0" rpy="0 0 0"/>
        <parent link="RightUpperArm_f2"/>
        <child link="RightUpperArm"/>
        <dynamics damping="0.1" friction="0.0"/>
        <limit effort="30" velocity="1.0" lower="-0.785398" upper="3.14159" />
        <axis xyz="0 0 1" />
    </joint>
	<joint name="jRightElbow_roty" type="revolute">
        <origin xyz=" 0.       -0.032981  0.074762" rpy="0 0 0"/>
        <parent link="RightUpperArm"/>
        <child link="RightForeArm_f1"/>
        <dynamics damping="0.1" friction="0.0"/>
        <limit effort="30" velocity="1.0" lower="-1.5708" upper="1.48353" />
        <axis xyz="0 1 0" />
    </joint>
	<joint name="jRightElbow_rotz" type="revolute">
        <origin xyz="0 0 0" rpy="0 0 0"/>
        <parent link="RightForeArm_f1"/>
        <child link="RightForeArm"/>
        <dynamics damping="0.1" friction="0.0"/>
        <limit effort="30" velocity="1.0" lower="0" upper="2.53073" />
        <axis xyz="0 0 1" />
    </joint>
	<joint name="jRightWrist_rotx" type="revolute">
        <origin xyz=" 1.18000e-04 -2.41408e-01  0.00000e+00" rpy="0 0 0"/>
        <parent link="RightForeArm"/>
        <child link="RightHand_f1"/>
        <dynamics damping="0.1" friction="0.0"/>
        <limit effort="30" velocity="1.0" lower="-0.872665" upper="1.0472" />
        <axis xyz="1 0 0" />
    </joint>
	<joint name="jRightWrist_rotz" type="revolute">
        <origin xyz="0 0 0" rpy="0 0 0"/>
        <parent link="RightHand_f1"/>
        <child link="RightHand"/>
        <dynamics damping="0.1" friction="0.0"/>
        <limit effort="30" velocity="1.0" lower="-0.523599" upper="0.349066" />
        <axis xyz="0 0 1" />
    </joint>
	<!--Chain from (12) to (15)-->
	<joint name="jLeftC7Shoulder_rotx" type="revolute">
        <origin xyz="0.       0.032981 0.074762" rpy="0 0 0"/>
        <parent link="T8"/>
        <child link="LeftShoulder"/>
        <dynamics damping="0.1" friction="0.0"/>
        <limit effort="30" velocity="1.0" lower="-0.0872665" upper="0.785398" />
        <axis xyz="1 0 0" />
    </joint>
	<joint name="jLeftShoulder_rotx" type="revolute">
        <origin xyz="0.       0.161972 0.      " rpy="0 0 0"/>
        <parent link="LeftShoulder"/>
        <child link="LeftUpperArm_f1"/>
        <dynamics damping="0.1" friction="0.0"/>
        <limit effort="30" velocity="1.0" lower="-1.5708" upper="2.35619" />
        <axis xyz="1 0 0" />
    </joint>
	<joint name="jLeftShoulder_roty" type="revolute">
        <origin xyz="0 0 0" rpy="0 0 0"/>
        <parent link="LeftUpperArm_f1"/>
        <child link="LeftUpperArm_f2"/>
        <dynamics damping="0.1" friction="0.0"/>
        <limit effort="30" velocity="1.0" lower="-1.5708" upper="1.5708" />
        <axis xyz="0 1 0" />
    </joint>
    <joint name="jLeftShoulder_rotz" type="revolute">
        <origin xyz="0 0 0" rpy="0 0 0"/>
        <parent link="LeftUpperArm_f2"/>
        <child link="LeftUpperArm"/>
        <dynamics damping="0.1" friction="0.0"/>
        <limit effort="30" velocity="1.0" lower="-3.14159" upper="0.785398" />
        <axis xyz="0 0 1" />
    </joint>
    <joint name="jLeftElbow_roty" type="revolute">
        <origin xyz="0.       0.032981 0.074762" rpy="0 0 0"/>
        <parent link="LeftUpperArm"/>
        <child link="LeftForeArm_f1"/>
        <dynamics damping="0.1" friction="0.0"/>
        <limit effort="30" velocity="1.0" lower="-1.5708" upper="1.48353" />
        <axis xyz="0 1 0" />
    </joint>
    <joint name="jLeftElbow_rotz" type="revolute">
        <origin xyz="0 0 0" rpy="0 0 0"/>
        <parent link="LeftForeArm_f1"/>
        <child link="LeftForeArm"/>
        <dynamics damping="0.1" friction="0.0"/>
        <limit effort="30" velocity="1.0" lower="-2.53073" upper="0" />
        <axis xyz="0 0 1" />
    </joint>
	<joint name="jLeftWrist_rotx" type="revolute">
        <origin xyz="1.18000e-04 2.41408e-01 0.00000e+00" rpy="0 0 0"/>
        <parent link="LeftForeArm"/>
        <child link="LeftHand_f1"/>
        <dynamics damping="0.1" friction="0.0"/>
        <limit effort="30" velocity="1.0" lower="-1.0472" upper="0.872665" />
        <axis xyz="1 0 0" />
    </joint>
	<joint name="jLeftWrist_rotz" type="revolute">
        <origin xyz="0 0 0" rpy="0 0 0"/>
        <parent link="LeftHand_f1"/>
        <child link="LeftHand"/>
        <dynamics damping="0.1" friction="0.0"/>
        <limit effort="30" velocity="1.0" lower="-0.349066" upper="0.523599" />
        <axis xyz="0 0 1" />
    </joint>
	<!--Chain from (16) to (19)-->
	<joint name="jRightHip_rotx" type="revolute">
        <origin xyz="-0.000165 -0.110051  0.001488" rpy="0 0 0"/>
        <parent link="Pelvis"/>
        <child link="RightUpperLeg_f1"/>
        <dynamics damping="0.1" friction="0.0"/>
        <limit effort="30" velocity="1.0" lower="-0.785398" upper="0.523599" />
        <axis xyz="1 0 0" />
    </joint>
	<joint name="jRightHip_roty" type="revolute">
        <origin xyz="0 0 0" rpy="0 0 0"/>
        <parent link="RightUpperLeg_f1"/>
        <child link="RightUpperLeg_f2"/>
        <dynamics damping="0.1" friction="0.0"/>
        <limit effort="30" velocity="1.0" lower="-0.261799" upper="2.0944" />
        <axis xyz="0 1 0" />
    </joint>
    <joint name="jRightHip_rotz" type="revolute">
        <origin xyz="0 0 0" rpy="0 0 0"/>
        <parent link="RightUpperLeg_f2"/>
        <child link="RightUpperLeg"/>
        <dynamics damping="0.1" friction="0.0"/>
        <limit effort="30" velocity="1.0" lower="-0.785398" upper="0.785398" />
        <axis xyz="0 0 1" />
    </joint>
	<joint name="jRightKnee_roty" type="revolute">
        <origin xyz="-1.25000e-04  0.00000e+00 -3.99027e-01" rpy="0 0 0"/>
        <parent link="RightUpperLeg"/>
        <child link="RightLowerLeg_f1"/>
        <dynamics damping="0.1" friction="0.0"/>
        <limit effort="30" velocity="1.0" lower="0" upper="2.35619" />
        <axis xyz="0 1 0" />
    </joint>
	<joint name="jRightKnee_rotz" type="revolute">
        <origin xyz="0 0 0" rpy="0 0 0"/>
        <parent link="RightLowerLeg_f1"/>
        <child link="RightLowerLeg"/>
        <dynamics damping="0.1" friction="0.0"/>
        <limit effort="30" velocity="1.0" lower="-0.698132" upper="0.523599" />
        <axis xyz="0 0 1" />
    </joint>
	<joint name="jRightAnkle_rotx" type="revolute">
        <origin xyz="-1.95000e-04  0.00000e+00 -4.38452e-01" rpy="0 0 0"/>
        <parent link="RightLowerLeg"/>
        <child link="RightFoot_f1"/>
        <dynamics damping="0.1" friction="0.0"/>
        <limit effort="30" velocity="1.0" lower="-0.610865" upper="0.785398" />
        <axis xyz="1 0 0" />
    </joint>
	<joint name="jRightAnkle_roty" type="revolute">
        <origin xyz="0 0 0" rpy="0 0 0"/>
        <parent link="RightFoot_f1"/>
        <child link="RightFoot_f2"/>
        <dynamics damping="0.1" friction="0.0"/>
        <limit effort="30" velocity="1.0" lower="-0.523599" upper="0.872665" />
        <axis xyz="0 1 0" />
    </joint>
    <joint name="jRightAnkle_rotz" type="revolute">
        <origin xyz="0 0 0" rpy="0 0 0"/>
        <parent link="RightFoot_f2"/>
        <child link="RightFoot"/>
        <dynamics damping="0.1" friction="0.0"/>
        <limit effort="30" velocity="1.0" lower="-0.436332" upper="0.872665" />
        <axis xyz="0 0 1" />
    </joint>
	<joint name="jRightBallFoot_roty" type="revolute">
        <origin xyz=" 0.171901  0.       -0.074163" rpy="0 0 0"/>
        <parent link="RightFoot"/>
        <child link="RightToe"/>
        <dynamics damping="0.1" friction="0.0"/>
        <limit effort="30" velocity="1.0" lower="-0.174533" upper="1.5708" />
        <axis xyz="0 1 0" />
    </joint>
	<!--Chain from (20) to (23)-->
	<joint name="jLeftHip_rotx" type="revolute">
        <origin xyz="-0.000163  0.110051  0.001464" rpy="0 0 0"/>
        <parent link="Pelvis"/>
        <child link="LeftUpperLeg_f1"/>
        <dynamics damping="0.1" friction="0.0"/>
        <limit effort="30" velocity="1.0" lower="-0.523599" upper="0.785398" />
        <axis xyz="1 0 0" />
    </joint>
	<joint name="jLeftHip_roty" type="revolute">
        <origin xyz="0 0 0" rpy="0 0 0"/>
        <parent link="LeftUpperLeg_f1"/>
        <child link="LeftUpperLeg_f2"/>
        <dynamics damping="0.1" friction="0.0"/>
        <limit effort="30" velocity="1.0" lower="-0.261799" upper="2.0944" />
        <axis xyz="0 1 0" />
    </joint>
    <joint name="jLeftHip_rotz" type="revolute">
        <origin xyz="0 0 0" rpy="0 0 0"/>
        <parent link="LeftUpperLeg_f2"/>
        <child link="LeftUpperLeg"/>
        <dynamics damping="0.1" friction="0.0"/>
        <limit effort="30" velocity="1.0" lower="-0.785398" upper="0.785398" />
        <axis xyz="0 0 1" />
    </joint>
	<joint name="jLeftKnee_roty" type="revolute">
        <origin xyz="-1.25000e-04  0.00000e+00 -3.99027e-01" rpy="0 0 0"/>
        <parent link="LeftUpperLeg"/>
        <child link="LeftLowerLeg_f1"/>
        <dynamics damping="0.1" friction="0.0"/>
        <limit effort="30" velocity="1.0" lower="0" upper="2.35619" />
        <axis xyz="0 1 0" />
    </joint>
    <joint name="jLeftKnee_rotz" type="revolute">
        <origin xyz="0 0 0" rpy="0 0 0"/>
        <parent link="LeftLowerLeg_f1"/>
        <child link="LeftLowerLeg"/>
        <dynamics damping="0.1" friction="0.0"/>
        <limit effort="30" velocity="1.0" lower="-0.523599" upper="0.698132" />
        <axis xyz="0 0 1" />
    </joint>
	<joint name="jLeftAnkle_rotx" type="revolute">
        <origin xyz="-1.95000e-04  0.00000e+00 -4.38452e-01" rpy="0 0 0"/>
        <parent link="LeftLowerLeg"/>
        <child link="LeftFoot_f1"/>
        <dynamics damping="0.1" friction="0.0"/>
        <limit effort="30" velocity="1.0" lower="-0.785398" upper="0.610865" />
        <axis xyz="1 0 0" />
    </joint>
	<joint name="jLeftAnkle_roty" type="revolute">
        <origin xyz="0 0 0" rpy="0 0 0"/>
        <parent link="LeftFoot_f1"/>
        <child link="LeftFoot_f2"/>
        <dynamics damping="0.1" friction="0.0"/>
        <limit effort="30" velocity="1.0" lower="-0.523599" upper="0.872665" />
        <axis xyz="0 1 0" />
    </joint>
    <joint name="jLeftAnkle_rotz" type="revolute">
        <origin xyz="0 0 0" rpy="0 0 0"/>
        <parent link="LeftFoot_f2"/>
        <child link="LeftFoot"/>
        <dynamics damping="0.1" friction="0.0"/>
        <limit effort="30" velocity="1.0" lower="-0.872665" upper="0.436332" />
        <axis xyz="0 0 1" />
    </joint>
	<joint name="jLeftBallFoot_roty" type="revolute">
        <origin xyz=" 0.171901  0.       -0.074163" rpy="0 0 0"/>
        <parent link="LeftFoot"/>
        <child link="LeftToe"/>
        <dynamics damping="0.1" friction="0.0"/>
        <limit effort="30" velocity="1.0" lower="-0.174533" upper="1.5708" />
        <axis xyz="0 1 0" />
    </joint>

	<!--Insert sensors here, if any.-->

</robot>
